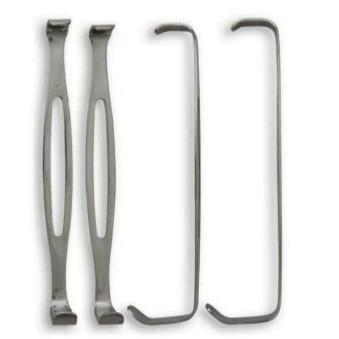Army Navy Retractor: (34, 14, 85, 325), (87, 18, 128, 330)
